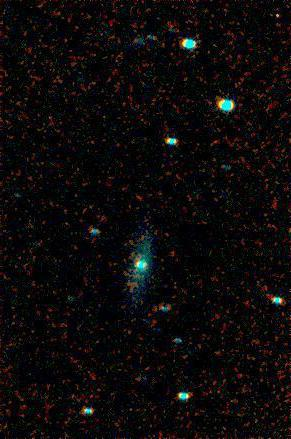star: (261, 3, 291, 33)
